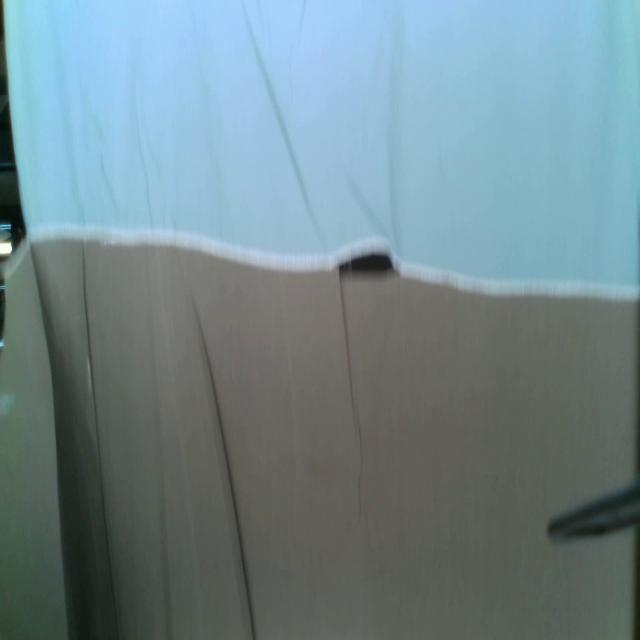crease: (187, 299, 257, 640), (242, 2, 316, 227), (81, 247, 119, 640), (338, 284, 364, 464)
hole: (336, 250, 398, 282)
